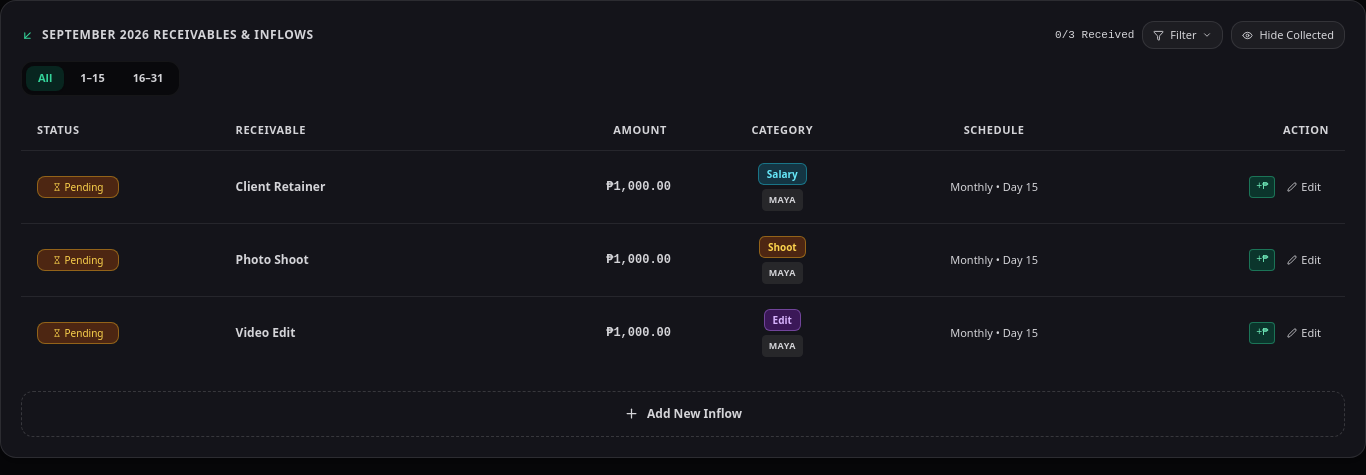
Test: ReceivablesTable - list, filtering, and interaction wiring › filters receivables by category
Open filter dropdown and select "Shoot"
Click the button "Filter": click(1183, 35) [1142,21,1224,49]
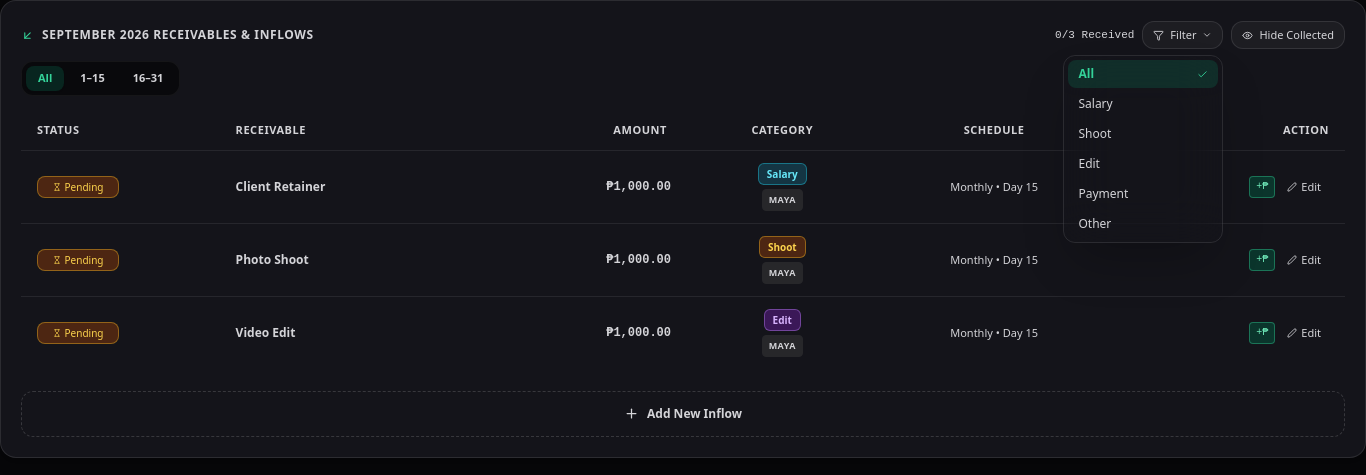
Click the button "Shoot": click(1144, 134) [1068,120,1218,148]
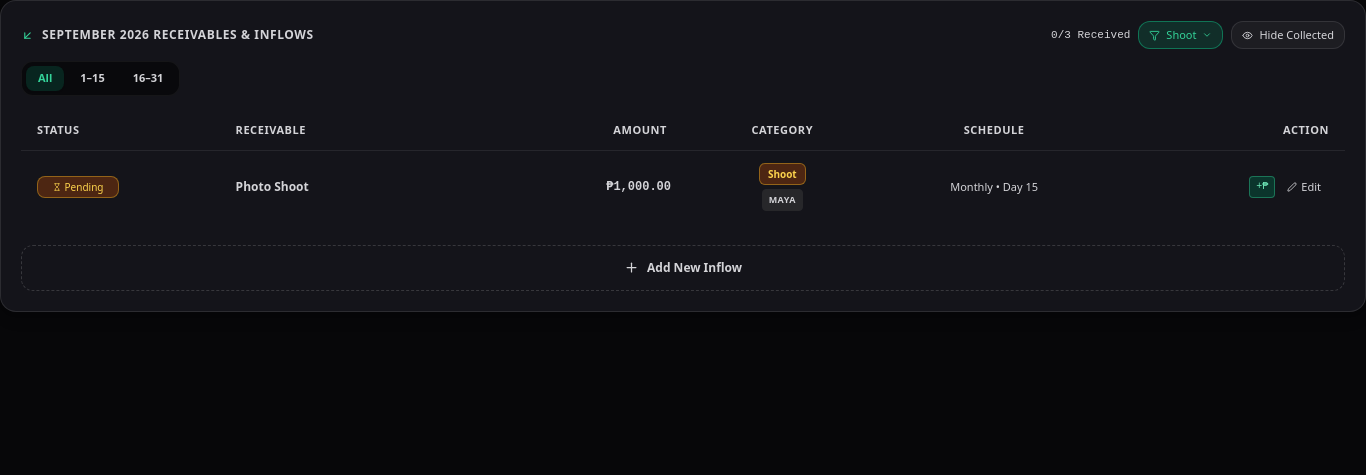
Check: the text "Client Retainer" is gone
Check: the text "Video Edit" is gone
